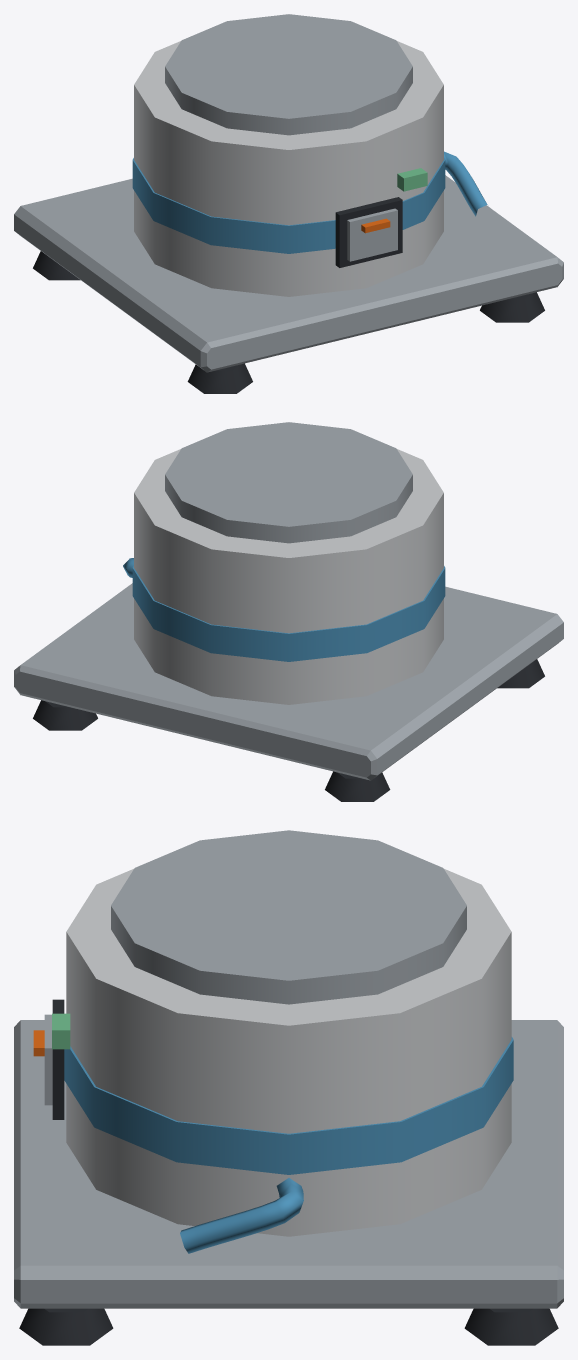
File: water_tank.glb
The picture shows the model from 3 angles, top to bottom: view 1: azimuth 30°, elevation 25°; view 2: azimuth 150°, elevation 25°; view 3: azimuth 270°, elevation 25°; orthographic projection. The views are drawn at different scales.
Parts seen in each view (by area): view 1: static_body_mesh.010, service_panel_mesh.010, status_lamp_mesh.008; view 2: static_body_mesh.010; view 3: static_body_mesh.010, service_panel_mesh.010, status_lamp_mesh.008.
Part boxes in pixels (box(x1,y1,x2,y2)): static_body_mesh.010: box(14, 14, 563, 393); service_panel_mesh.010: box(335, 197, 402, 267); status_lamp_mesh.008: box(397, 168, 427, 191); static_body_mesh.010: box(14, 422, 563, 801); static_body_mesh.010: box(14, 830, 563, 1345); service_panel_mesh.010: box(33, 999, 64, 1119); status_lamp_mesh.008: box(52, 1013, 70, 1049).
Bounding box in the file's own units: 2.3 × 1.35 × 2.1.
